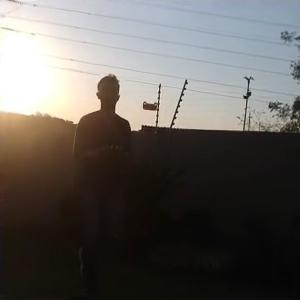follow: (65, 70, 136, 298)
